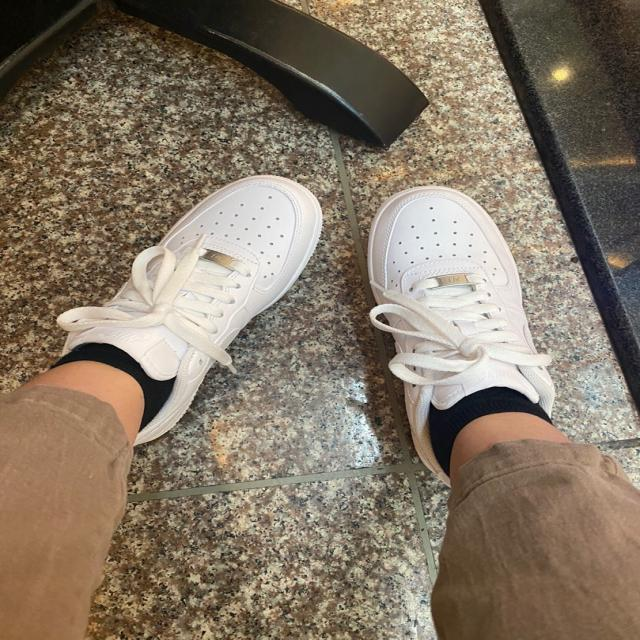nike original air force: (354, 188, 566, 502), (46, 172, 330, 402)
